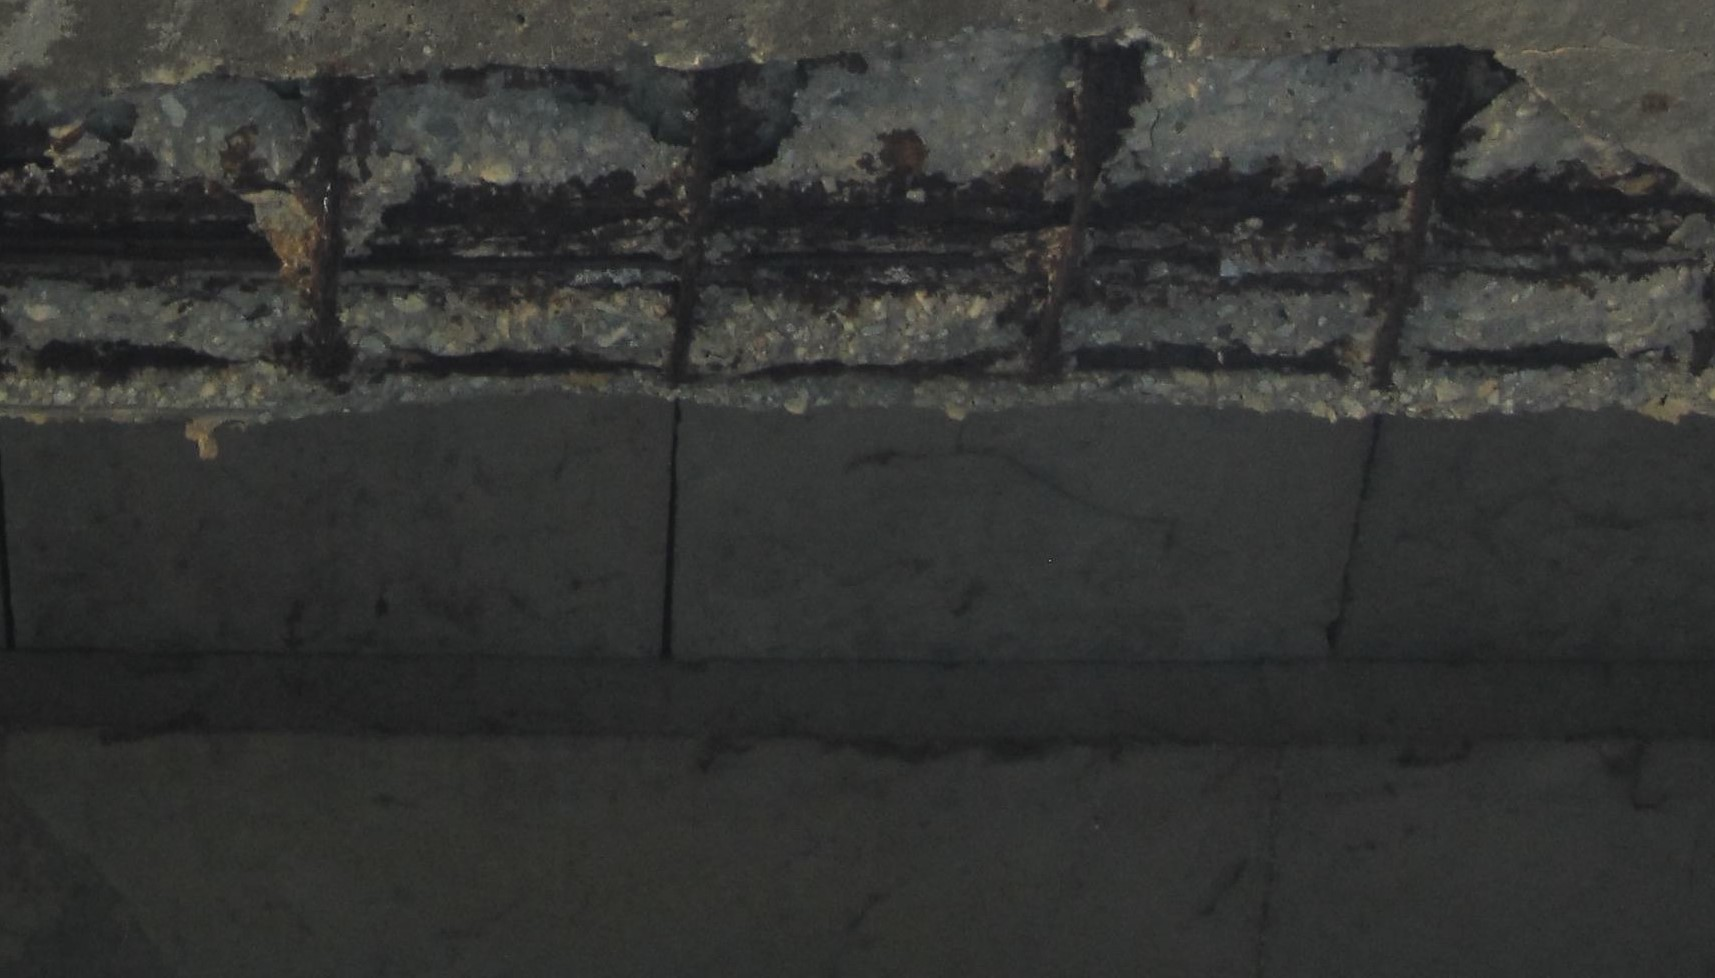Exposed reinforcement: (1029, 44, 1143, 372), (1371, 42, 1471, 385), (670, 66, 723, 390), (1094, 190, 1403, 227), (739, 346, 1019, 384), (1072, 338, 1339, 376), (311, 73, 343, 365), (380, 346, 664, 378), (730, 201, 1070, 227), (340, 247, 664, 273), (1, 242, 284, 271), (382, 199, 656, 227), (34, 337, 230, 374), (1462, 189, 1715, 216), (1, 217, 266, 242), (1413, 341, 1620, 370), (1, 192, 256, 216), (1464, 257, 1696, 282), (740, 249, 976, 271), (1087, 243, 1223, 265), (1239, 272, 1352, 295)
Spalling: (1, 12, 1715, 465)
